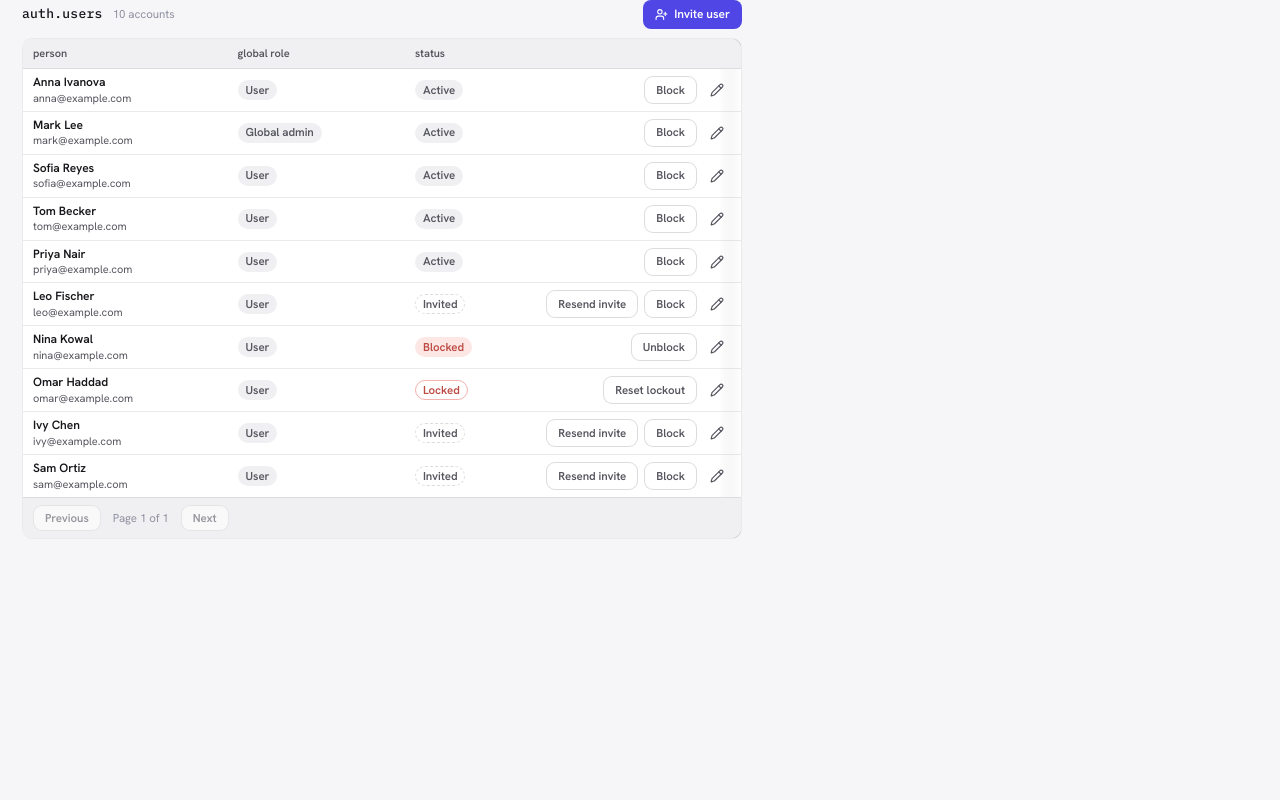
Scenario: the admin Users section › says when the account being blocked is the one you are signed in as
Click the button with aria-label "Block Mark Lee": {"x": 671, "y": 133} x1=644 y1=119 x2=697 y2=147
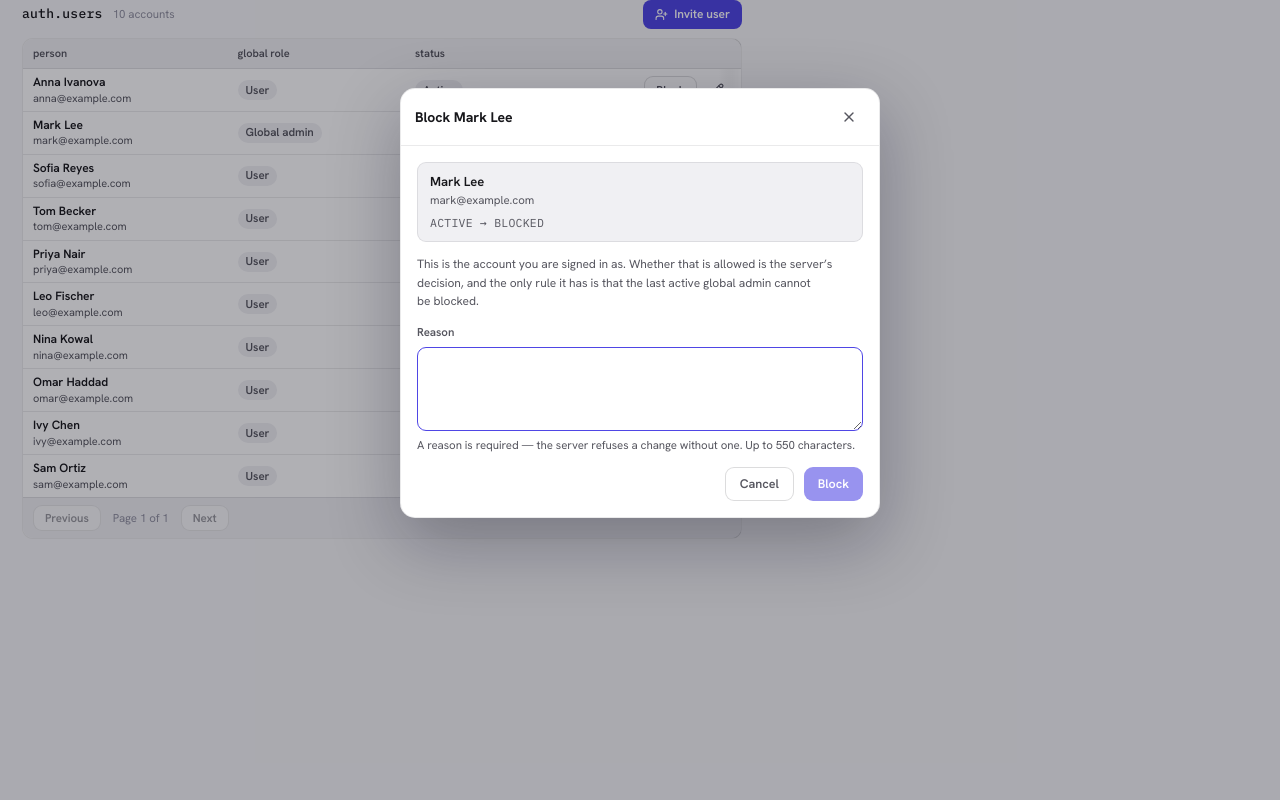
Expected: the text "account you are signed in as" is shown, x1=417 y1=256 x2=626 y2=272
Expected: the button "Block" is shown, x1=804 y1=467 x2=863 y2=501
